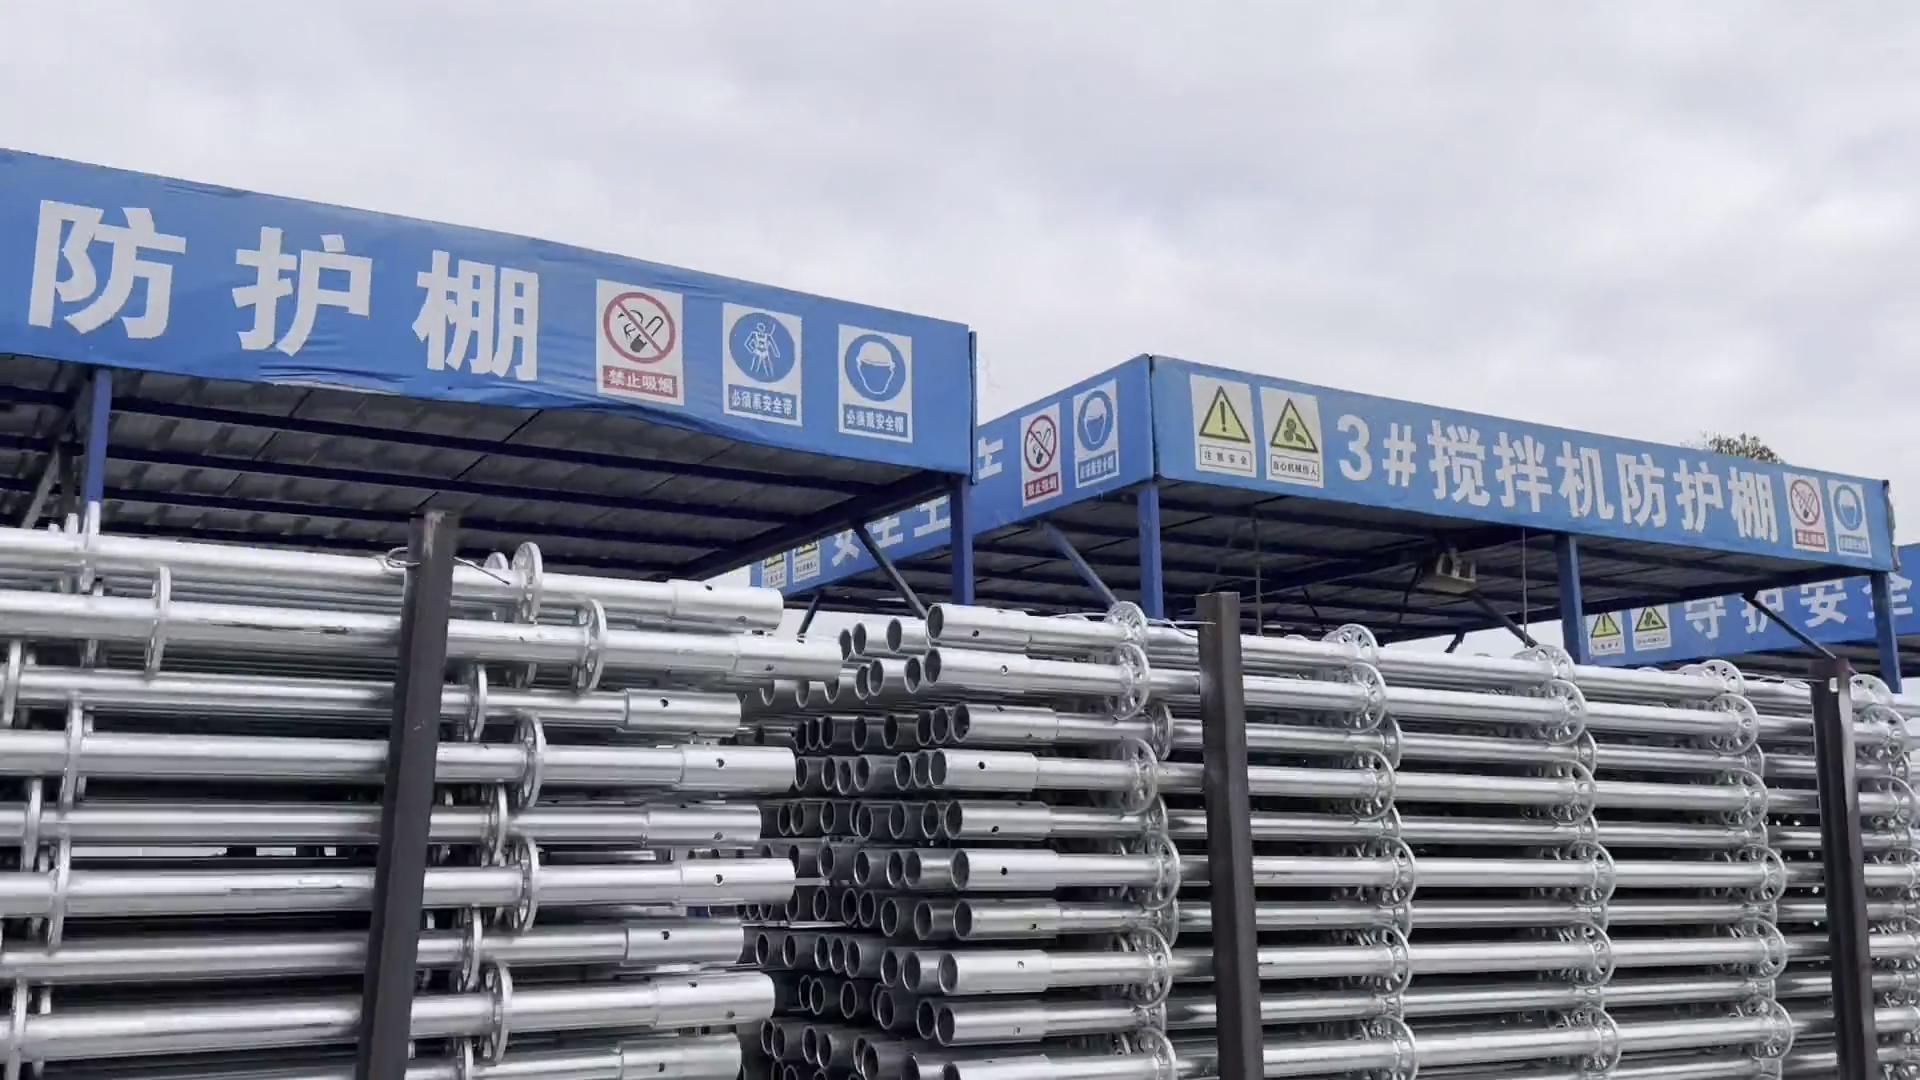scaffold: (770, 580, 1916, 1080), (1, 560, 786, 1073)
slogan: (825, 434, 1009, 568), (1695, 559, 1920, 650)
